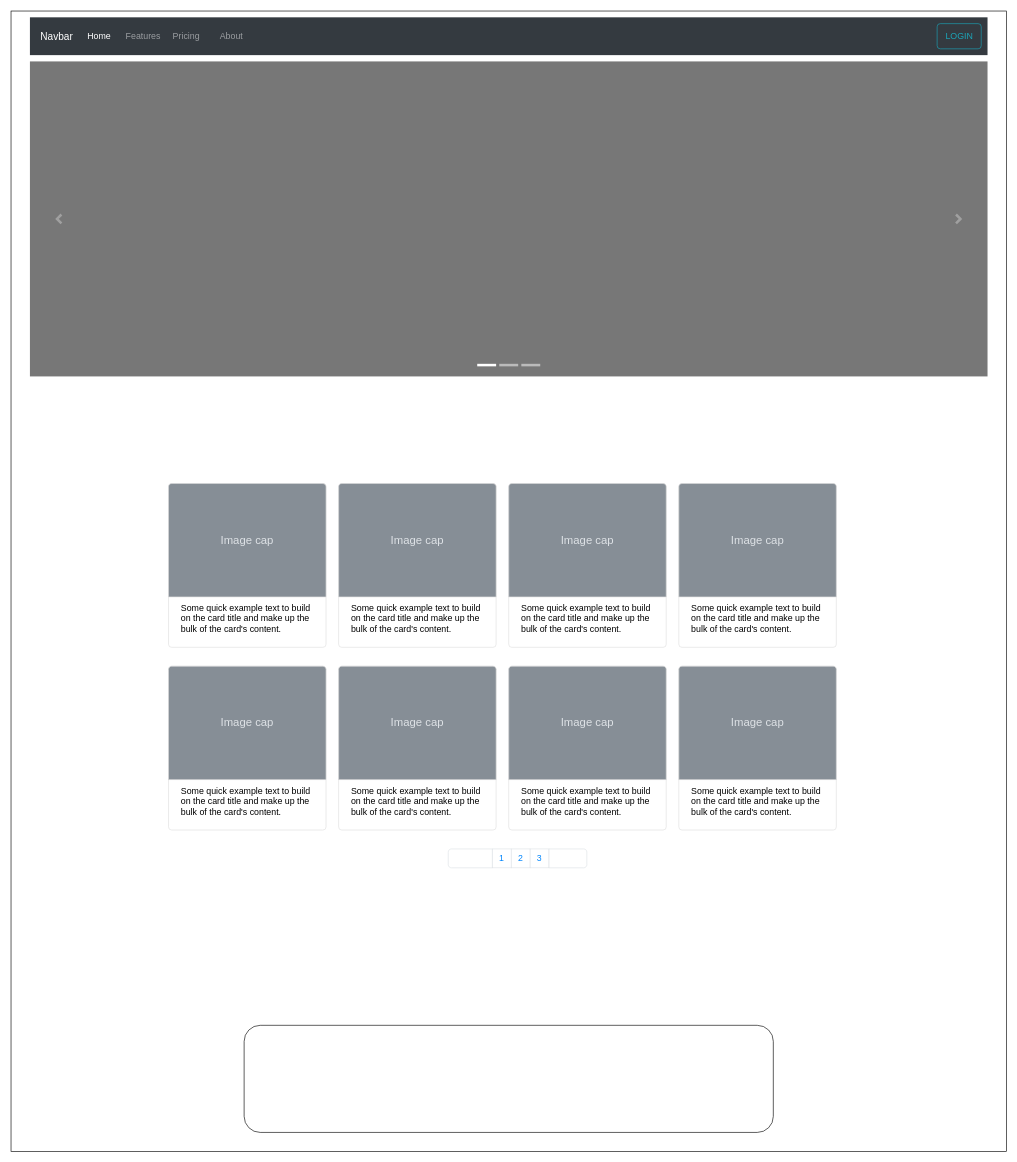
Some shapes in this 1017 by 1162 pixel diagram are drawn without their labels. Here are the shapes that lost their labels. From the top down, the box of each, then its label:
(30, 61, 987, 376): First slide
(448, 848, 492, 868): Previous
(548, 848, 587, 868): Next
(243, 1025, 773, 1132): FOOTER
